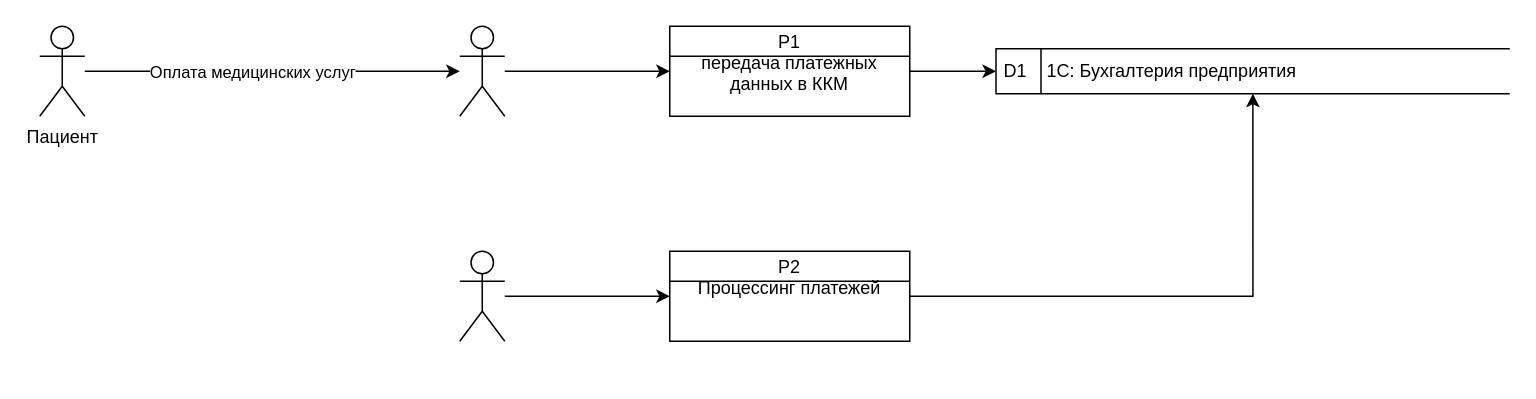
The diagram is 1536 pixels wide and 399 high, and some of its shapes have lost their labels. The box of each missing label's shape, as (x1, y1, x2, y2) in pixels:
Бухгалтер: (458, 250, 505, 341)
Кассир: (458, 25, 505, 116)
